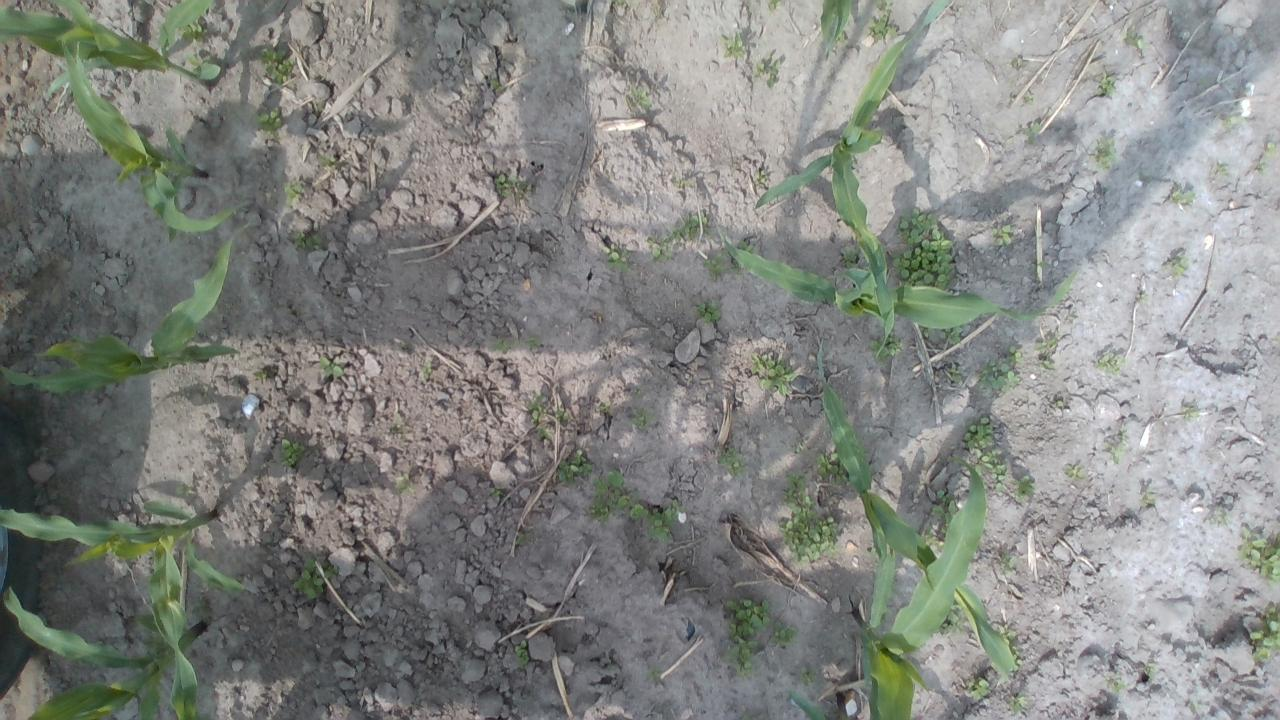Maize: (752, 0, 954, 355), (811, 342, 1020, 679), (0, 497, 250, 720), (0, 226, 230, 390), (54, 41, 238, 240), (852, 460, 986, 720), (727, 240, 1078, 330), (0, 585, 212, 720), (0, 0, 222, 104), (816, 0, 857, 55), (785, 690, 827, 720)
Weeds: (778, 472, 840, 564), (888, 207, 954, 293), (586, 466, 648, 526), (726, 598, 770, 678), (644, 210, 707, 264), (1237, 526, 1280, 590), (750, 351, 796, 398), (290, 558, 339, 600), (254, 40, 296, 84), (1249, 605, 1280, 663), (646, 498, 684, 544), (976, 360, 1024, 396), (972, 448, 1008, 492), (815, 450, 850, 486), (557, 450, 592, 485), (930, 489, 960, 528), (960, 416, 994, 450), (932, 601, 964, 633), (867, 334, 903, 362), (601, 242, 631, 273), (1091, 137, 1118, 171), (718, 30, 746, 62), (866, 11, 896, 40), (180, 19, 210, 48), (716, 446, 745, 476), (1103, 427, 1125, 466), (771, 621, 802, 648), (751, 59, 780, 87), (255, 106, 282, 136), (492, 174, 530, 195), (625, 85, 653, 113), (694, 296, 721, 325), (278, 438, 305, 466), (628, 408, 658, 433), (1094, 351, 1125, 375), (293, 231, 328, 251), (319, 356, 348, 380), (964, 676, 990, 701), (702, 253, 726, 280), (527, 393, 547, 424), (1014, 474, 1037, 498), (922, 527, 944, 552), (282, 180, 305, 203), (142, 632, 166, 654), (1168, 189, 1195, 205), (1062, 463, 1086, 481), (940, 324, 960, 345), (992, 224, 1012, 244), (394, 474, 414, 494), (1170, 256, 1188, 278), (998, 623, 1016, 645), (1100, 72, 1116, 96), (1124, 31, 1144, 50), (1006, 344, 1026, 362), (798, 668, 816, 688), (186, 55, 210, 70), (1026, 123, 1042, 145), (1034, 336, 1056, 352), (515, 640, 529, 665), (843, 248, 858, 270), (835, 25, 849, 48), (492, 338, 512, 354), (945, 366, 962, 384), (1000, 554, 1015, 574), (175, 484, 196, 498), (1213, 161, 1231, 177), (720, 239, 736, 257), (536, 423, 552, 441), (645, 666, 665, 680), (1009, 645, 1022, 666), (1182, 402, 1199, 418), (552, 408, 570, 423), (317, 154, 336, 168), (1010, 696, 1026, 712), (1140, 490, 1156, 506), (526, 335, 544, 349), (190, 600, 204, 618), (1108, 677, 1126, 691), (1038, 358, 1056, 372), (754, 169, 769, 184), (728, 259, 744, 273), (421, 360, 432, 380), (674, 176, 689, 190), (1144, 664, 1154, 685), (872, 0, 894, 9), (738, 240, 752, 254), (1213, 509, 1225, 524), (513, 536, 530, 546), (767, 0, 784, 10), (1134, 291, 1147, 304), (868, 546, 880, 560), (1255, 162, 1266, 176), (487, 487, 504, 496), (1190, 703, 1204, 713), (1266, 144, 1278, 155), (1224, 115, 1234, 128), (795, 442, 805, 454), (920, 325, 929, 338), (255, 371, 268, 379), (1038, 260, 1048, 270), (488, 80, 498, 90), (740, 713, 754, 720), (1054, 400, 1064, 408), (607, 0, 626, 4)
